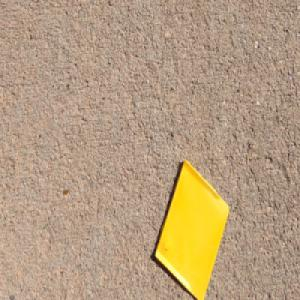PlasticPart: (153, 157, 229, 300)
